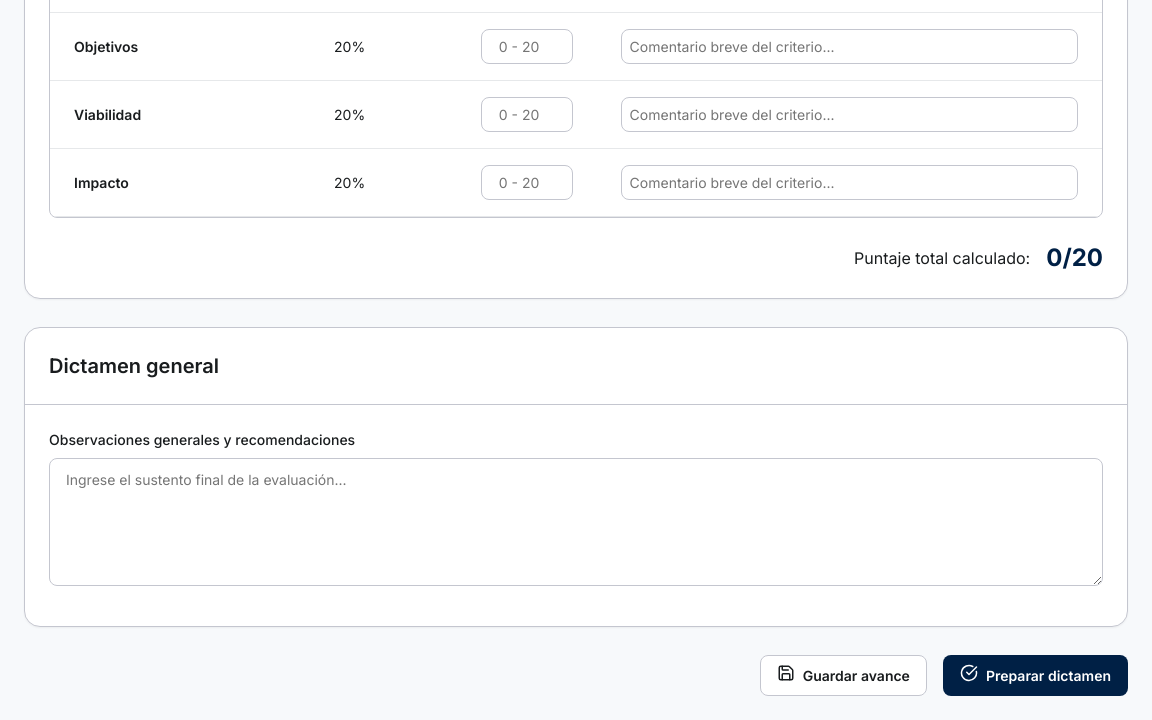
EvaluationForm › shows validation error when not all criteria scored
Click the button "Preparar dictamen".
click(1035, 676)  # box x1=943 y1=655 x2=1128 y2=696
(page scrolled)
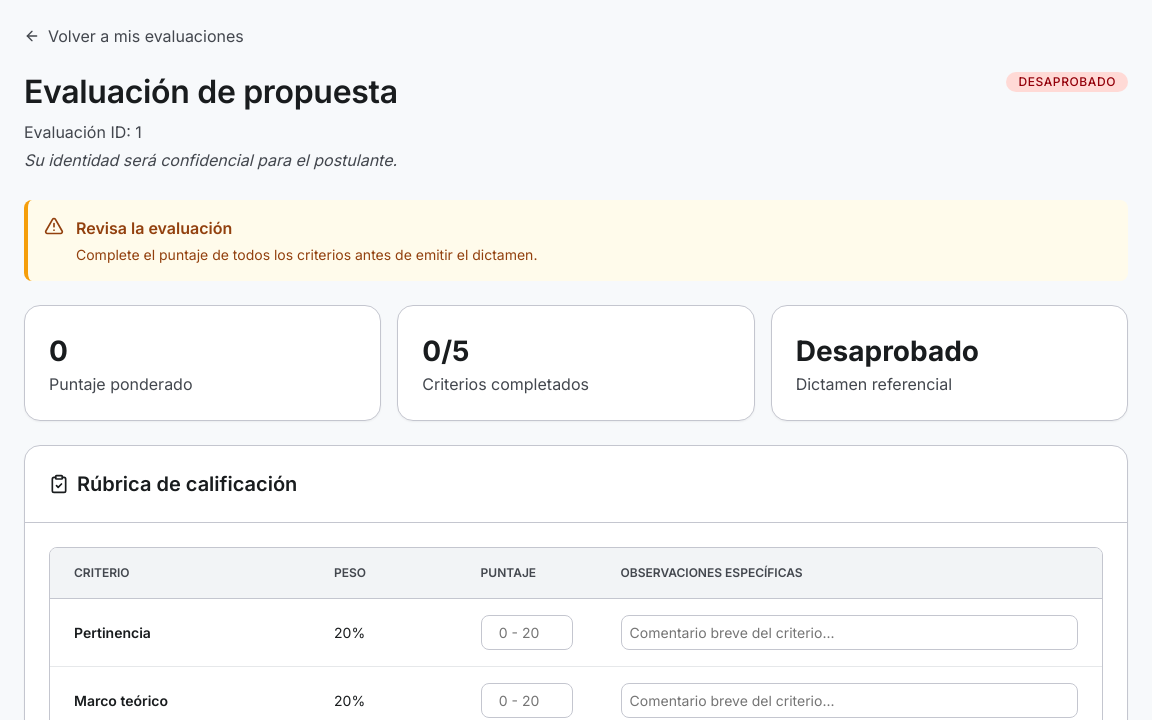
Expected: the text "Complete el puntaje de todos los criterios" is shown, x1=76 y1=246 x2=537 y2=263
